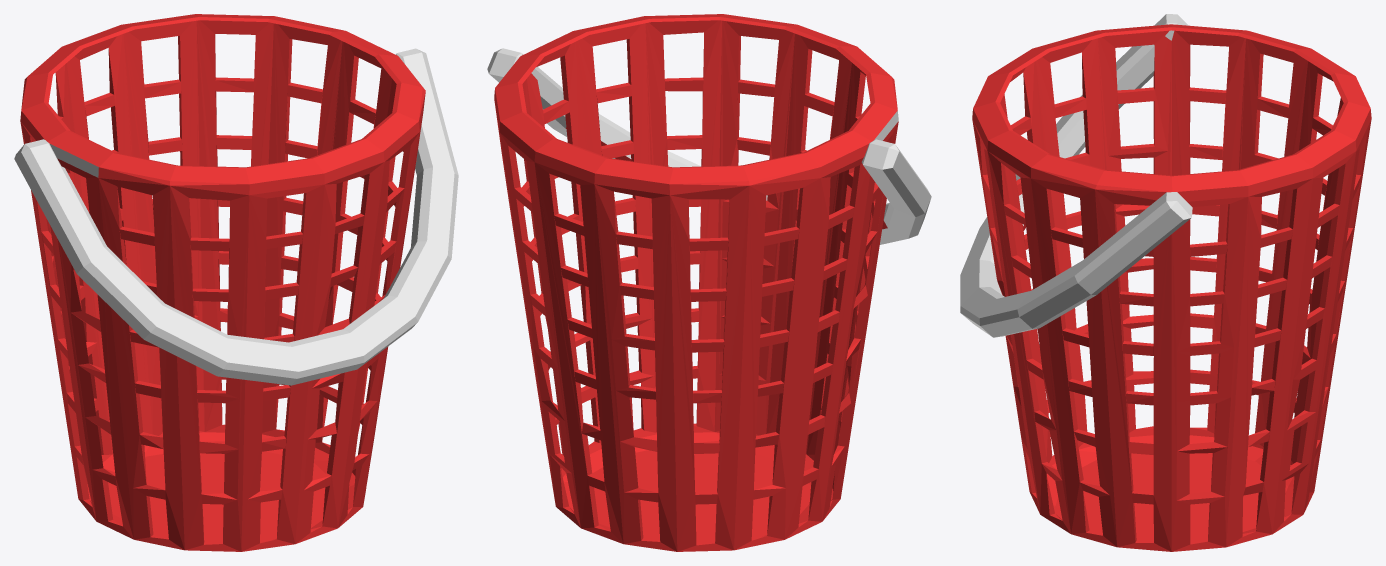
Rendered from trash_can.fbx.
3 renders of one model, left to right at view 1: azimuth 30°, elevation 25°; view 2: azimuth 150°, elevation 25°; view 3: azimuth 270°, elevation 25°, orthographic. The views are drawn at different scales.
Parts seen in each view (by area): view 1: Thung rac; view 2: Thung rac; view 3: Thung rac.
Part boxes in pixels (<box>): Thung rac: <box>14,14,458,551</box>; Thung rac: <box>487,14,931,551</box>; Thung rac: <box>960,14,1371,551</box>.
Bounding box in the file's own units: 69.63 × 66.45 × 62.51.
